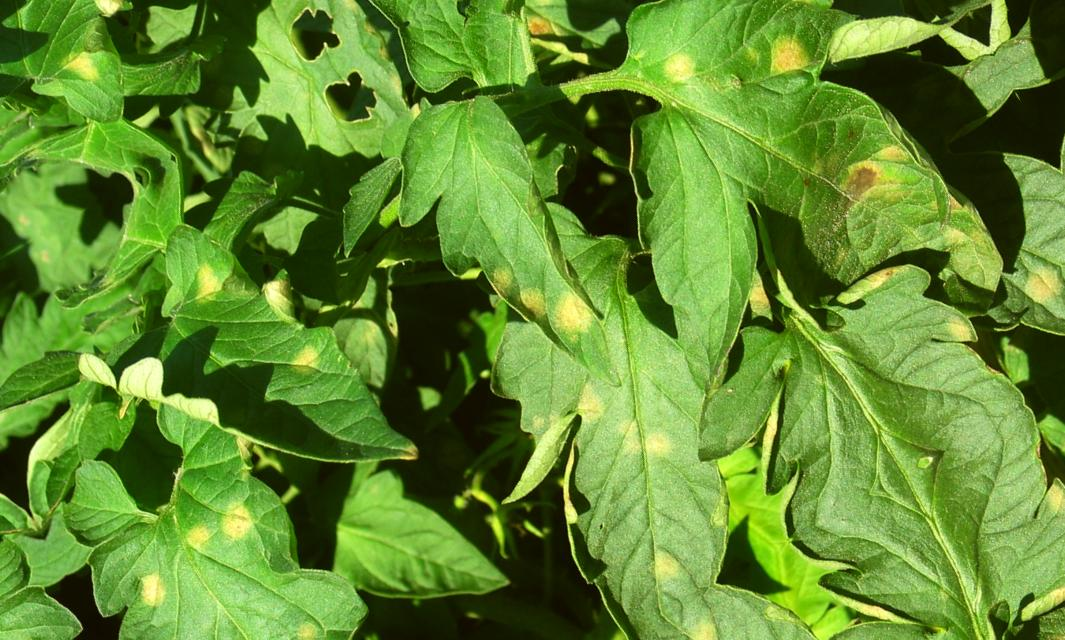Tomato mold leaf: (511, 0, 1037, 428), (395, 207, 818, 640), (56, 184, 418, 563), (665, 223, 1049, 557), (11, 369, 426, 640), (372, 73, 655, 433), (903, 120, 1065, 405)
